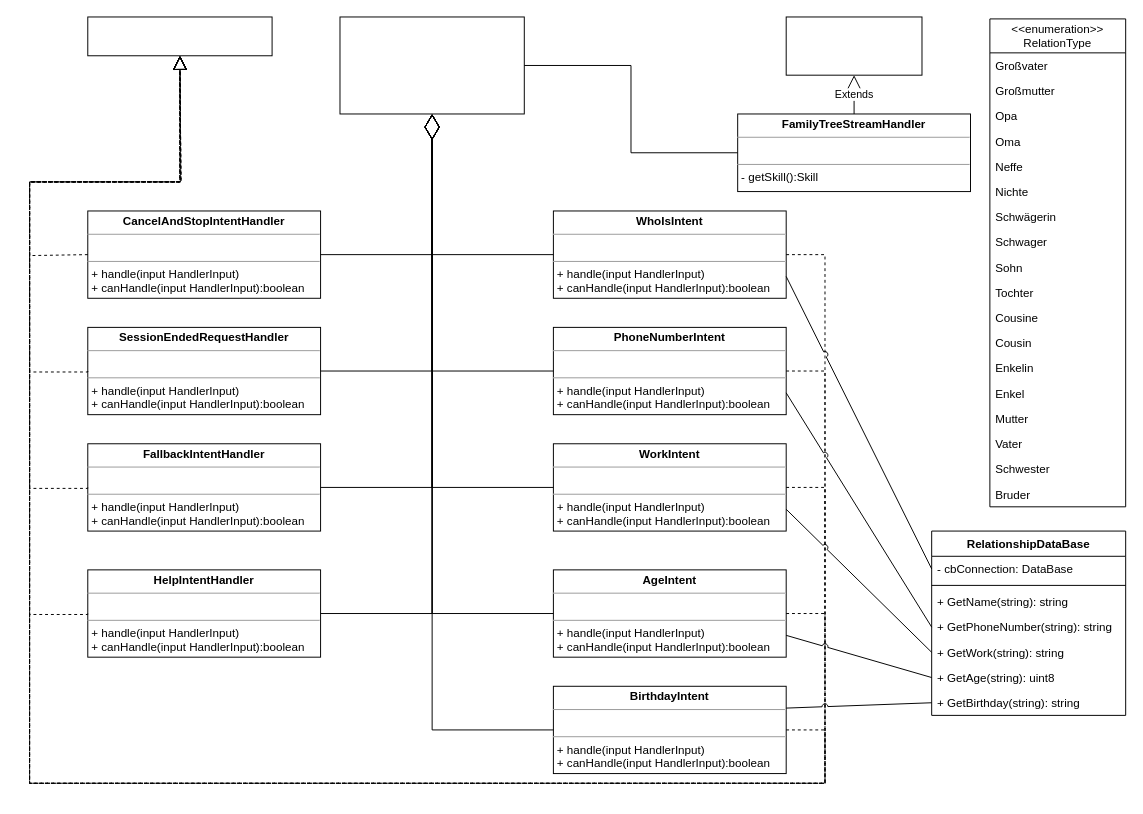
This 1143x814 diagram has some shape labels left out. Each missing label, with the centre of its shape:
"<<Interface>> RequestHandler" goes at (179,36).
"Skill + build()" goes at (431,65).
"SkillStreamHandler" goes at (853,45).
